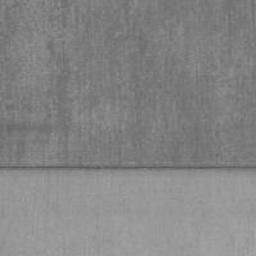Welding line: (0, 164, 256, 173)
